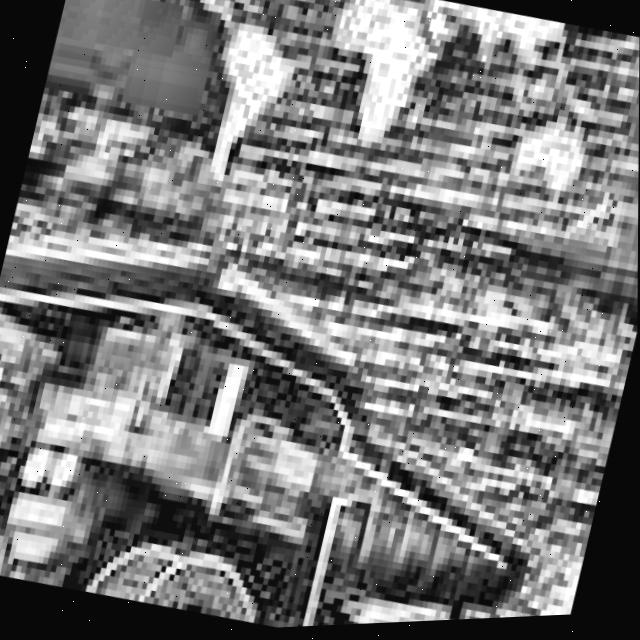dump_truck: (0, 191, 553, 640)
